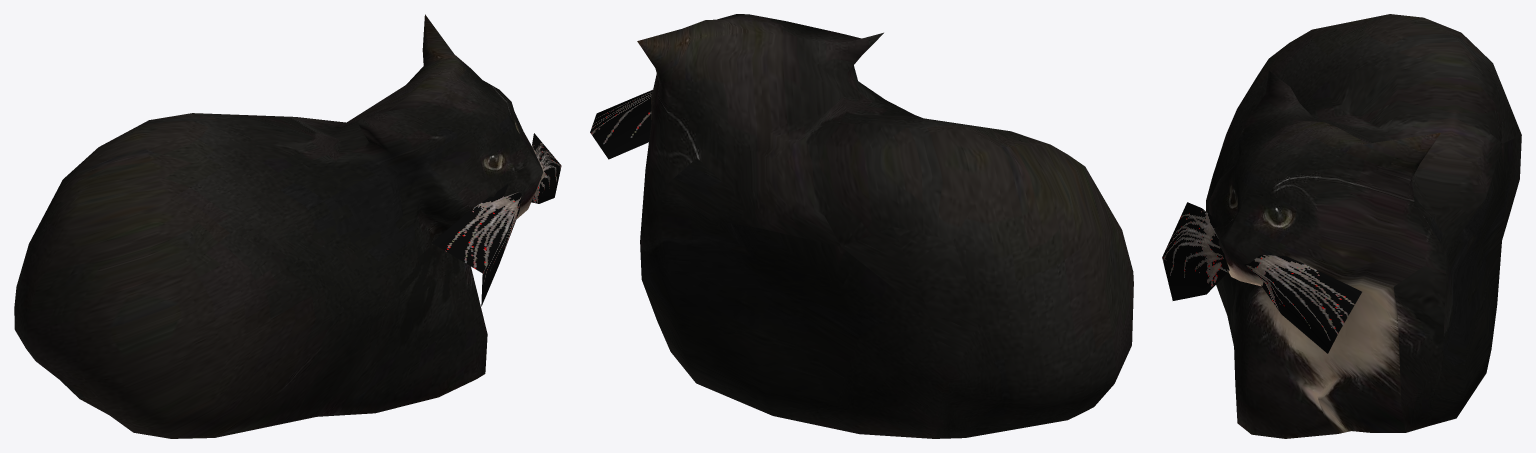
File: Maxwell.fbx
The picture shows the model from 3 angles, left to right: view 1: azimuth 30°, elevation 25°; view 2: azimuth 150°, elevation 25°; view 3: azimuth 270°, elevation 25°; orthographic projection. The views are drawn at different scales.
Visible parts, largest first — view 1: dingus; view 2: dingus; view 3: dingus.
Boxes of the visible parts, x1,y1,x2,y2 form: dingus: (14,14,561,438); dingus: (590,14,1133,438); dingus: (1162,14,1521,438).
Size of the model in its own units: 332 by 194 by 187.
